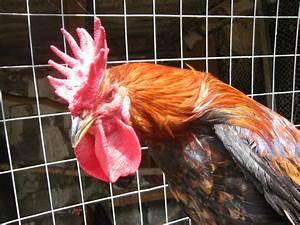hen: (45, 14, 299, 224)
